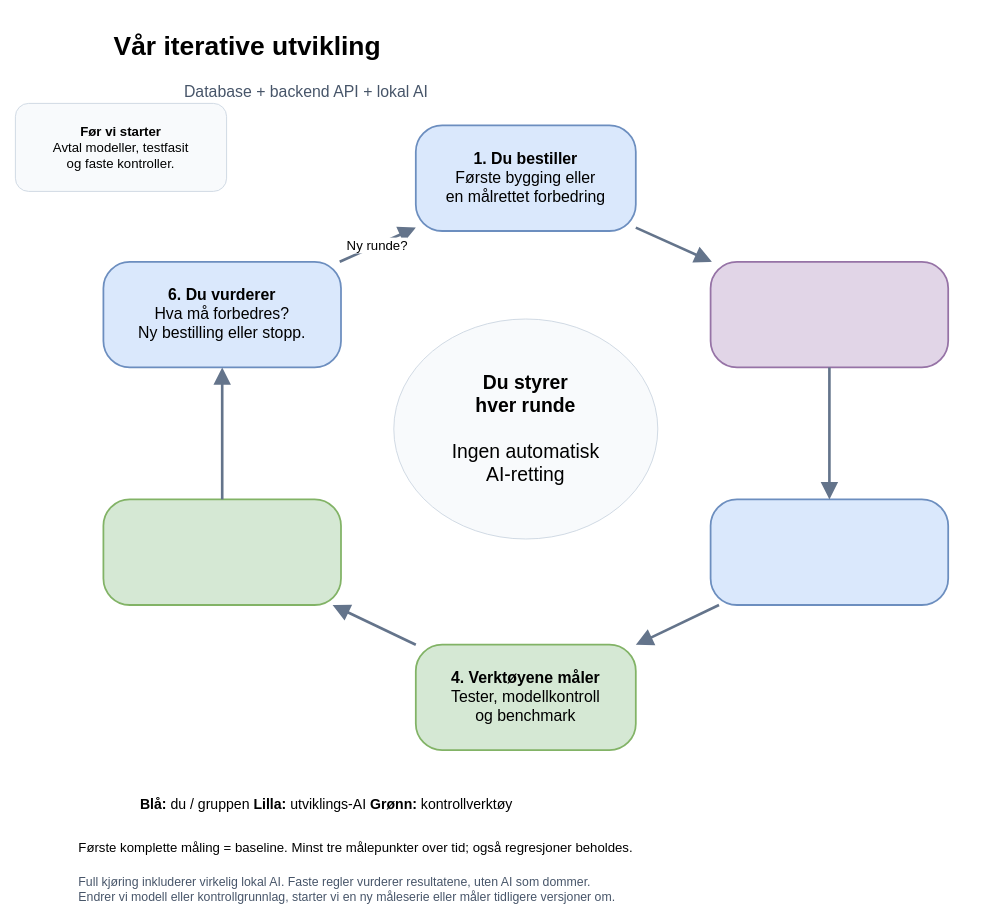
This 999x923 diagram has some shape labels left out. The shapes that lost their labels are listed below. From the top down, each one's centre as x and y in pixels, then its label:
At (x=829, y=314): "2. AI bygger / retter Ut fra modellene og bestillingen din".
At (x=221, y=551): "5. Du får rapport Feil, modellavvik, svartider og FoM-kurver".
At (x=829, y=551): "3. Du starter kontroll Lagre kodeversjonen. Kjør kontrollene på server.".
